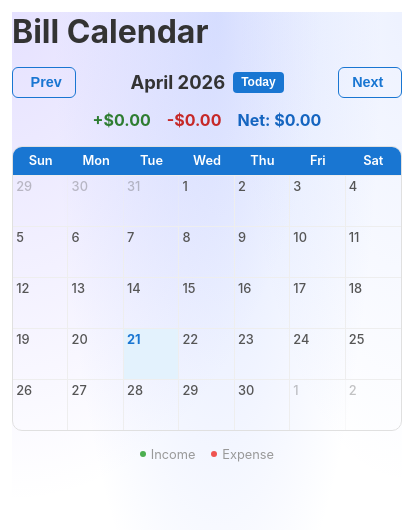
Test case: BillCalendarView › navigates to next month
Click the button with class "nav-btn" showing "Next" at (370, 82), box [338,67,402,98]
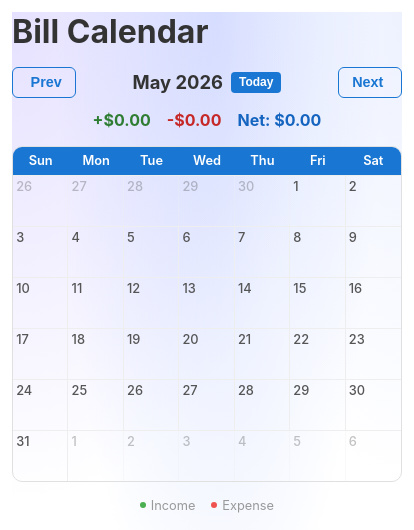
Expected: the text "May" is shown, [133,71,223,93]
